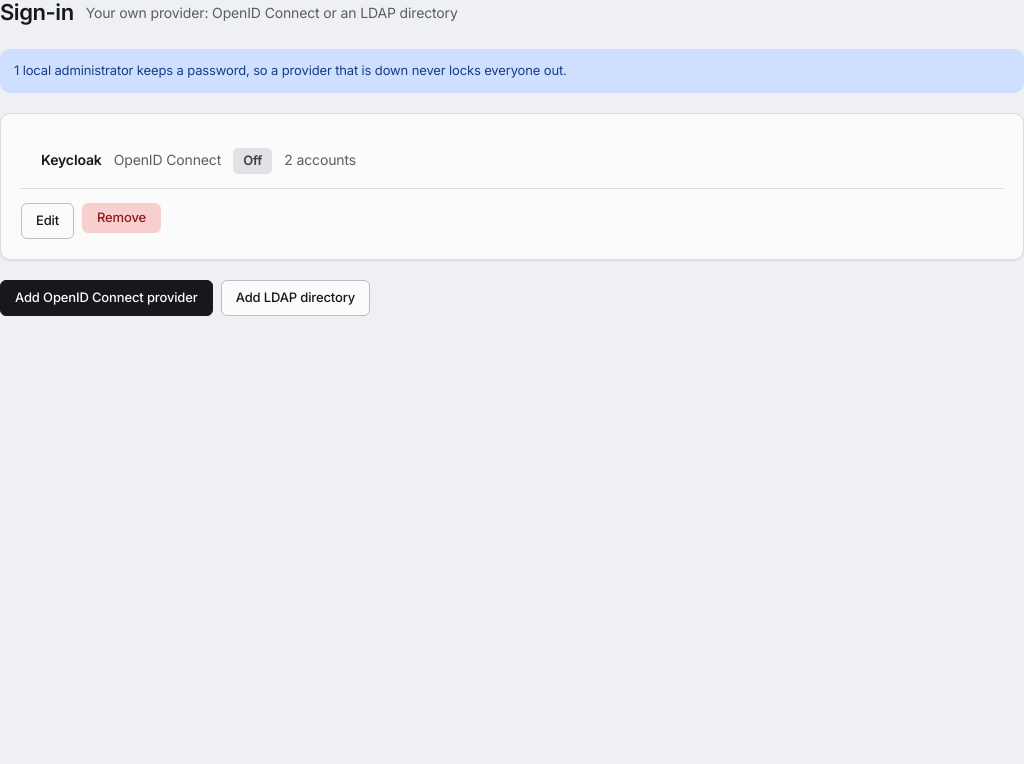
SignInSettingsPage › shows why a test failed
What coordinates should you click on to do the following:
click the button "Edit"
I would click on:
 (48, 220)
Its box is [21,202,74,238].
(page scrolled)
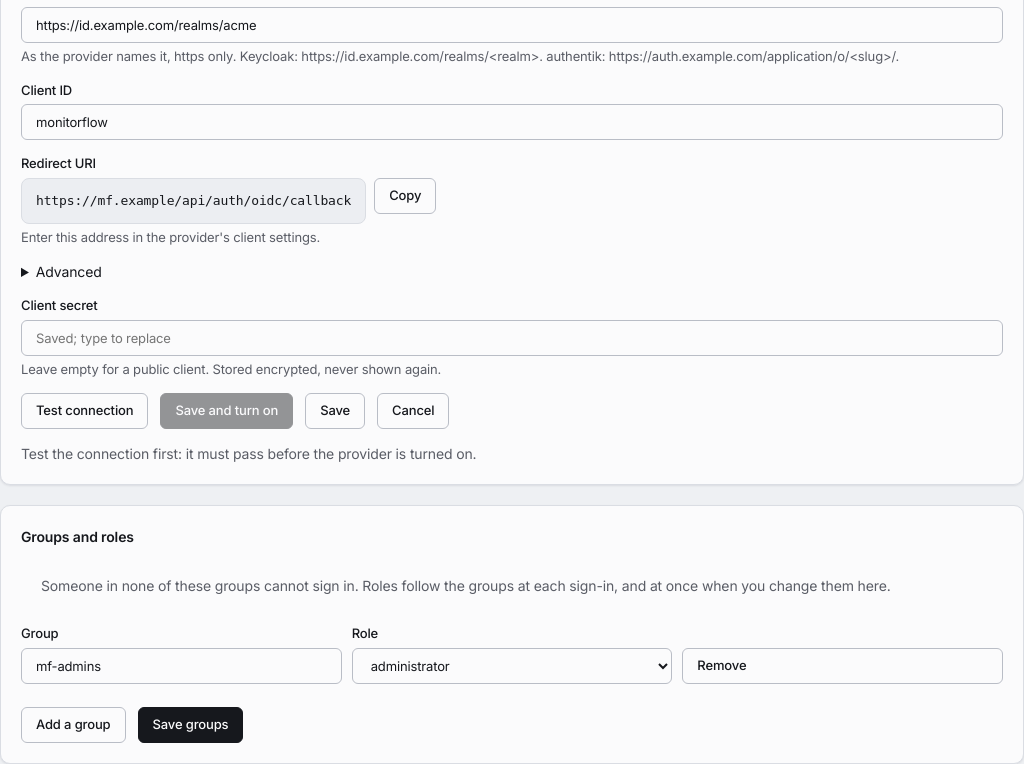
What coordinates should you click on to do the following:
click the button "Test connection"
I would click on:
 (85, 411)
Its box is [21,393,148,429].
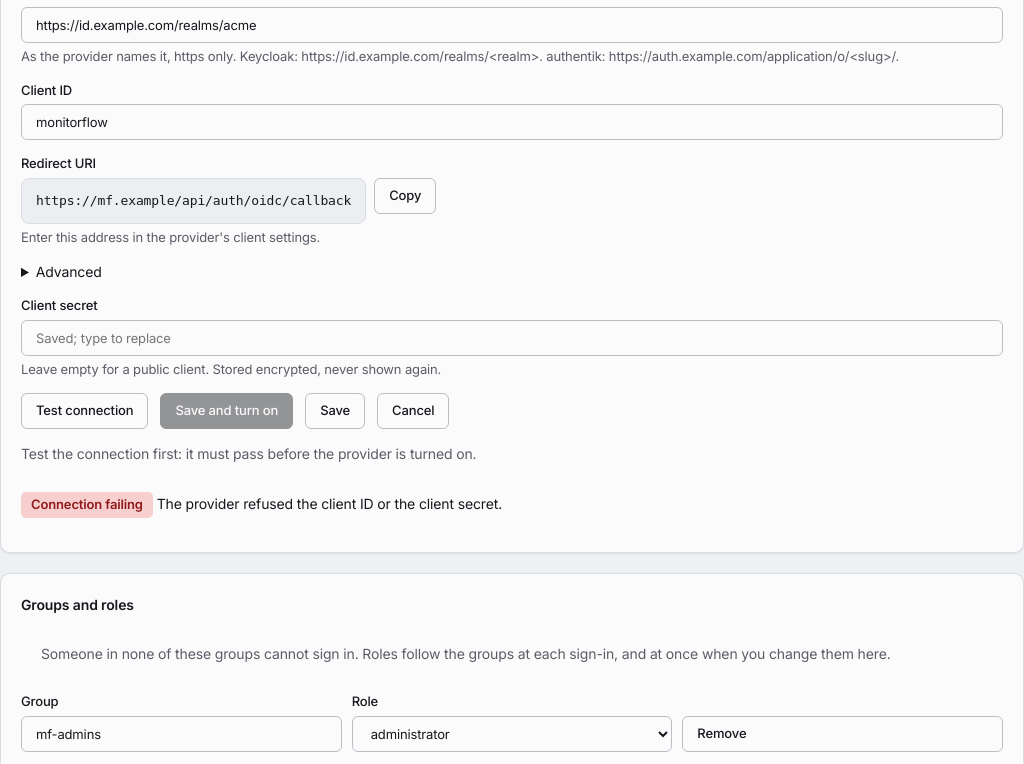
Check: the button "Save and turn on" is disabled, box [160,393,293,429]
Check: the message shows "The provider refused the client ID or the client secret.", box [157,495,502,512]
